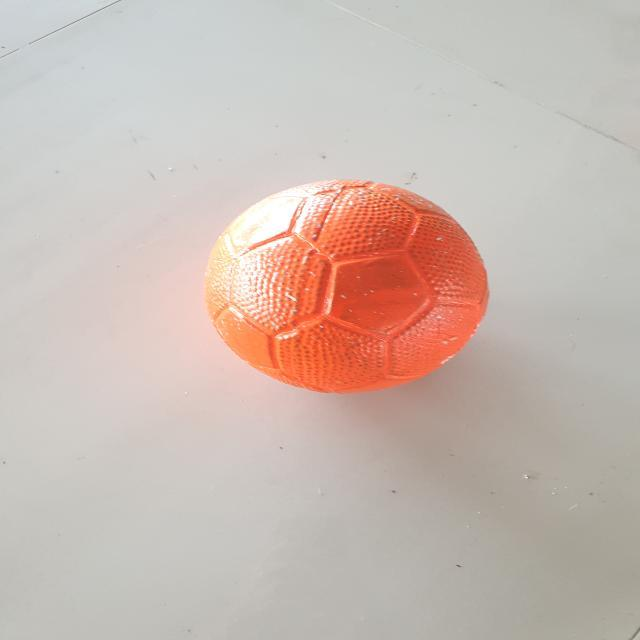bola: (193, 169, 499, 405)
